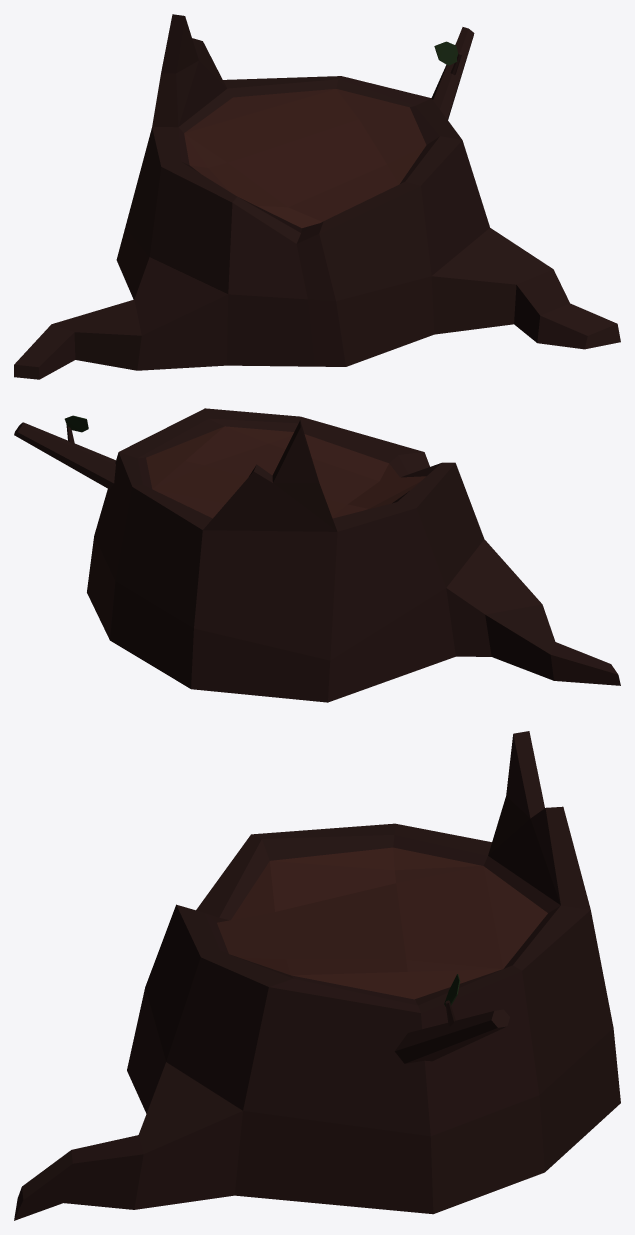
The model's file is stump.glb.
3 renders of one model, top to bottom at view 1: azimuth 30°, elevation 25°; view 2: azimuth 150°, elevation 25°; view 3: azimuth 270°, elevation 25°, orthographic. The views are drawn at different scales.
Parts seen in each view (by area): view 1: TreeStump_Cylinder.010; view 2: TreeStump_Cylinder.010; view 3: TreeStump_Cylinder.010.
Part boxes in pixels (box(x1,y1,x2,y2)): TreeStump_Cylinder.010: box(14, 14, 620, 379); TreeStump_Cylinder.010: box(14, 408, 620, 702); TreeStump_Cylinder.010: box(14, 731, 620, 1220).
Size of the model in its own units: 1.36 by 0.6216 by 1.03.
